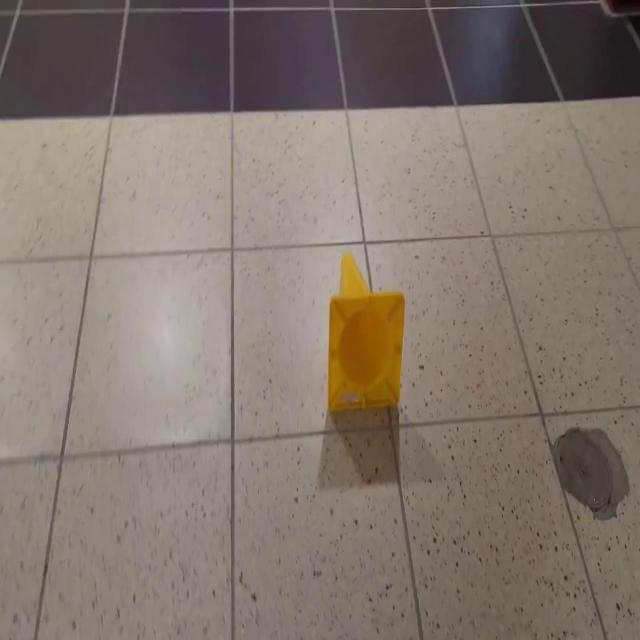frc_cone: (328, 251, 406, 413)
